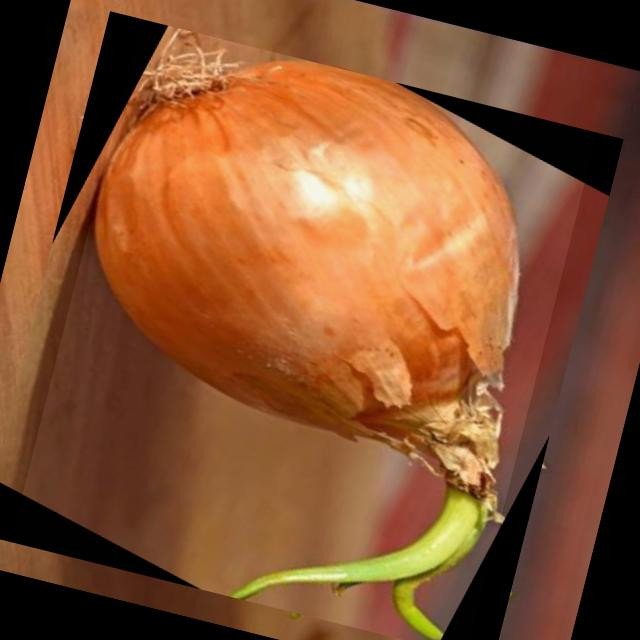sprouting: (96, 41, 519, 638)
